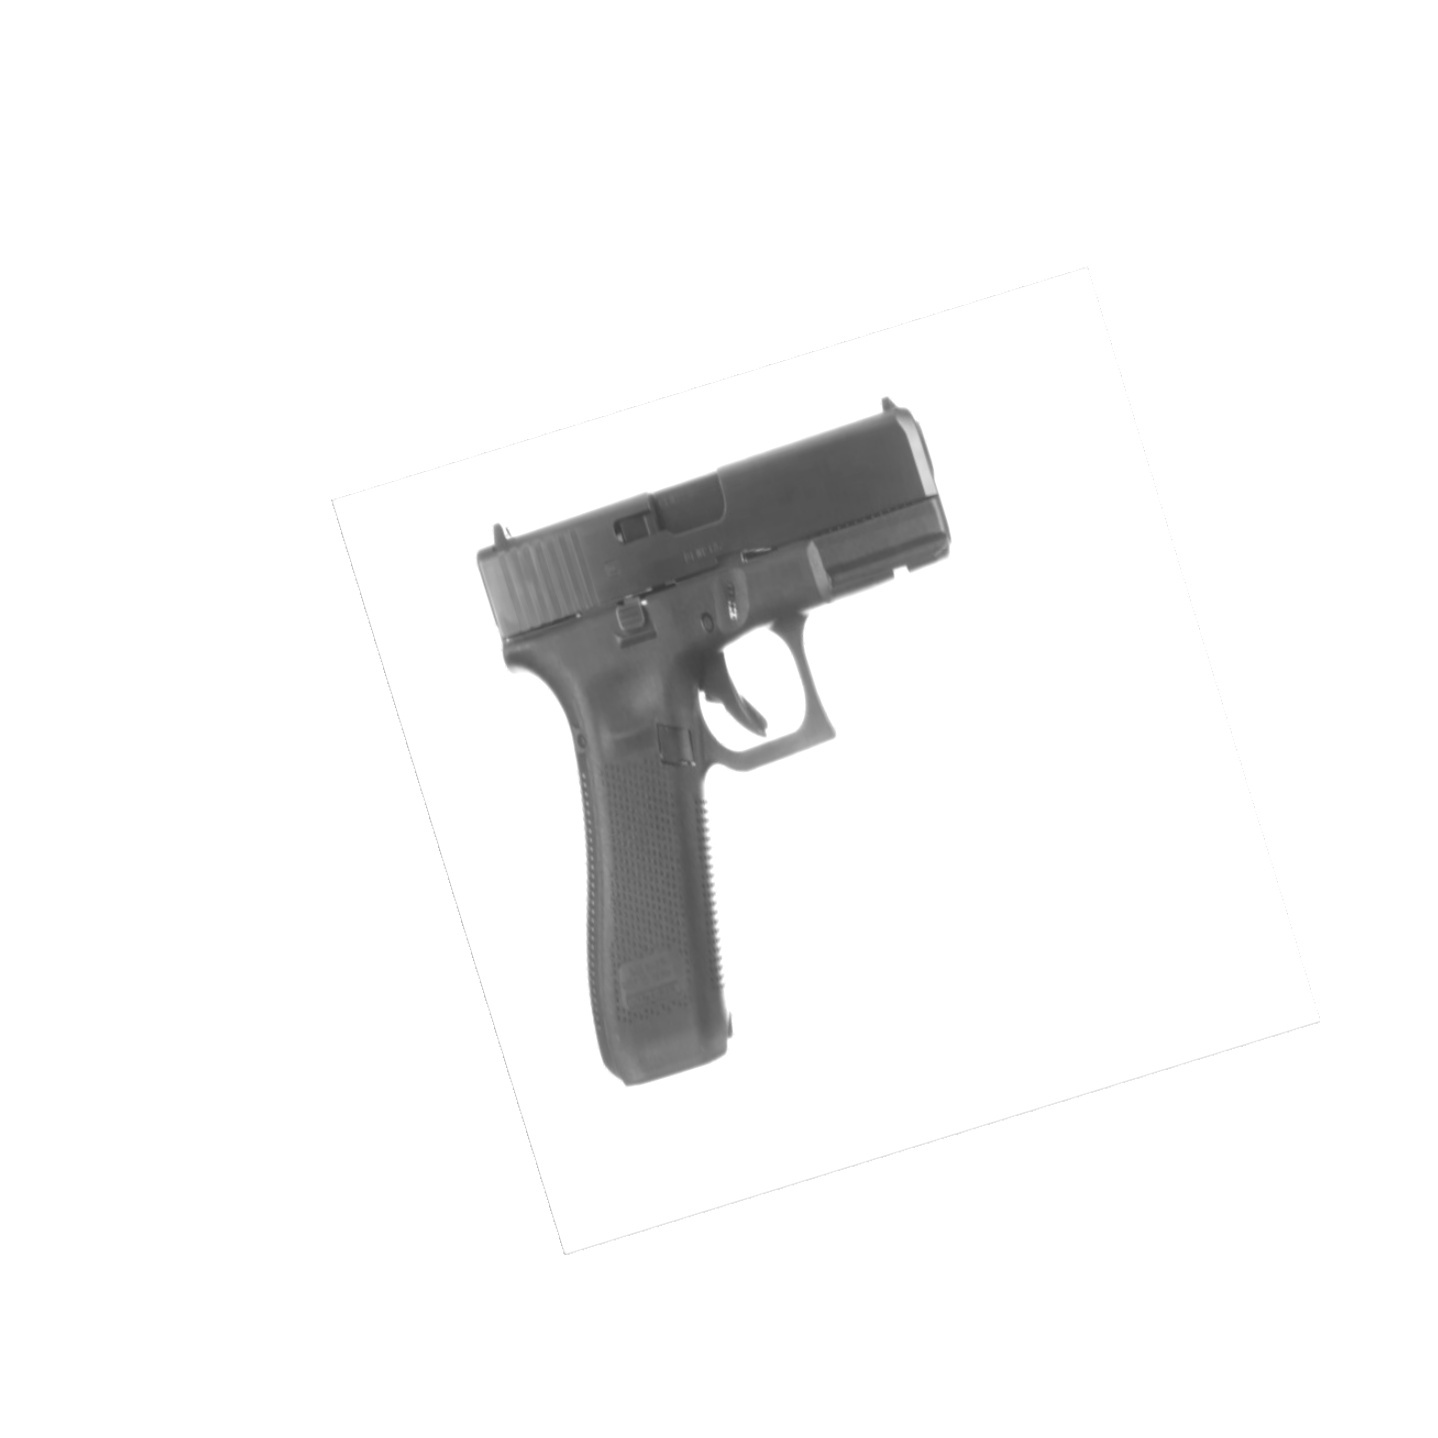gun: (467, 390, 952, 1096)
